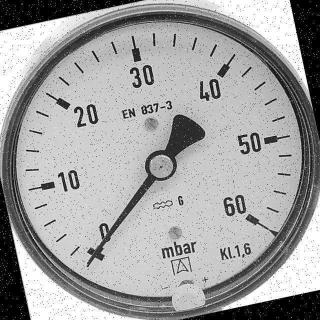gauge: (0, 0, 320, 320), (231, 198, 265, 238), (84, 227, 117, 265), (144, 148, 178, 181), (83, 255, 97, 269)
